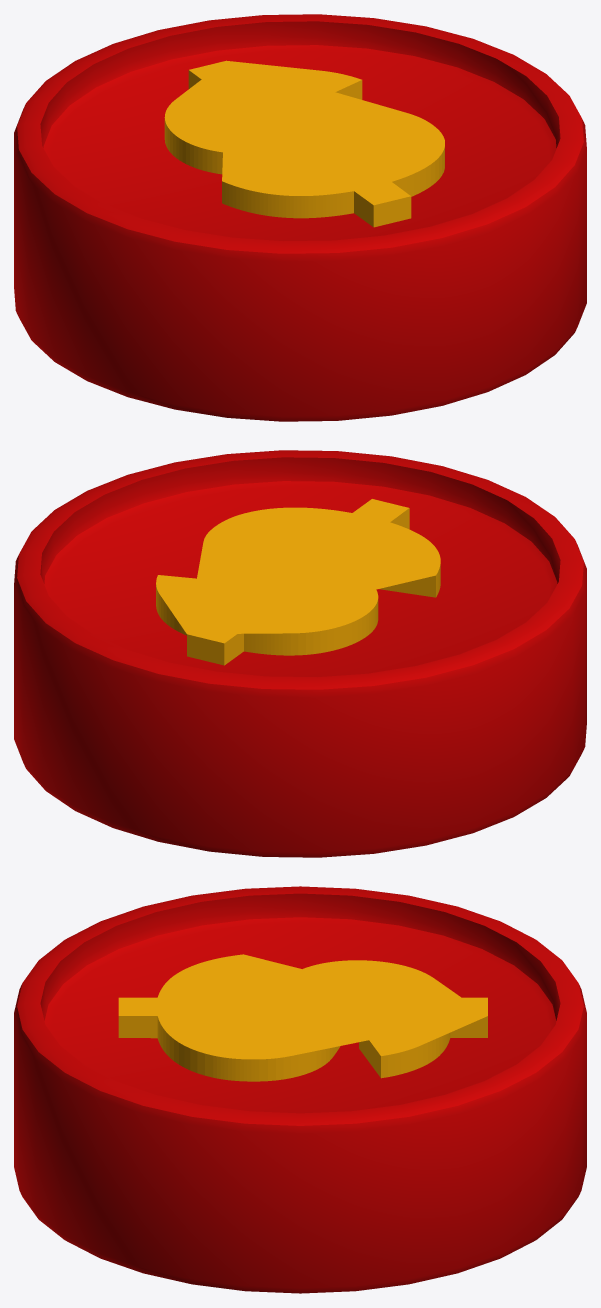
The model's file is Coin_Object.fbx.
The picture shows the model from 3 angles, top to bottom: view 1: azimuth 30°, elevation 25°; view 2: azimuth 150°, elevation 25°; view 3: azimuth 270°, elevation 25°; orthographic projection.
Parts seen in each view (by area): view 1: Coin_P; view 2: Coin_P; view 3: Coin_P.
Boxes of the visible parts, <box> form: Coin_P: <box>14,14,586,421</box>; Coin_P: <box>14,450,586,857</box>; Coin_P: <box>14,886,586,1293</box>.
Size of the model in its own units: 6 by 2 by 6.
